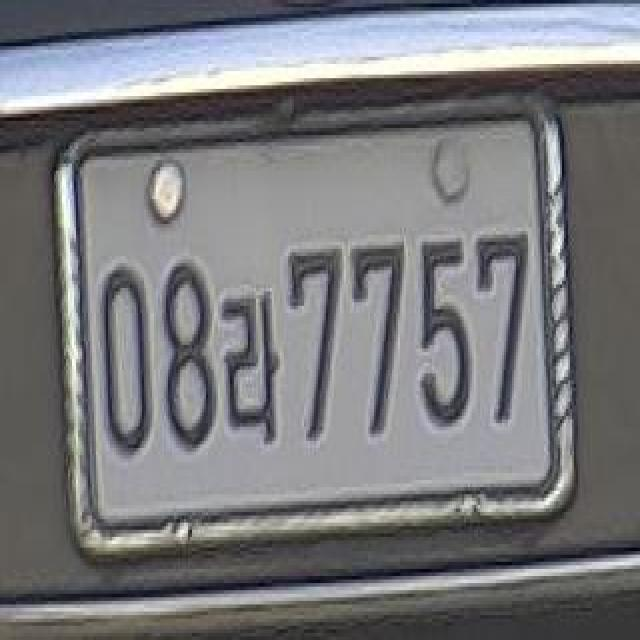illegal_plate: (59, 99, 570, 556)
